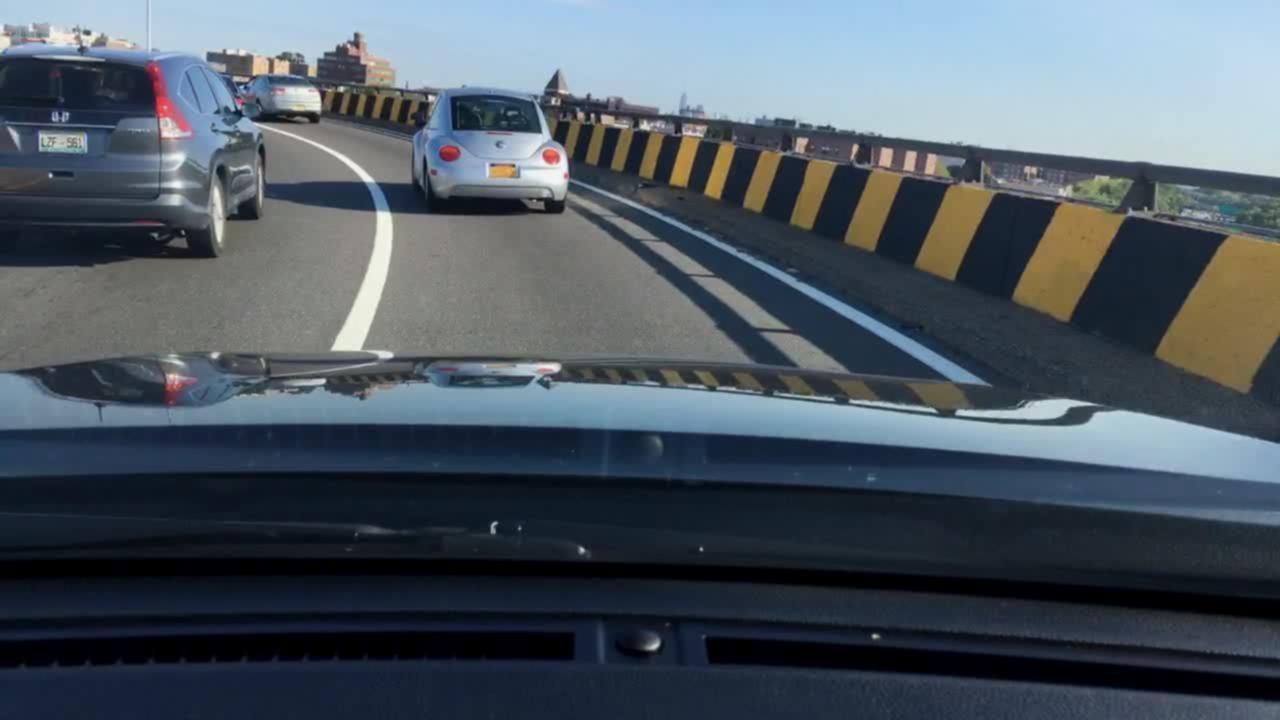Honda: (40, 101, 82, 133)
